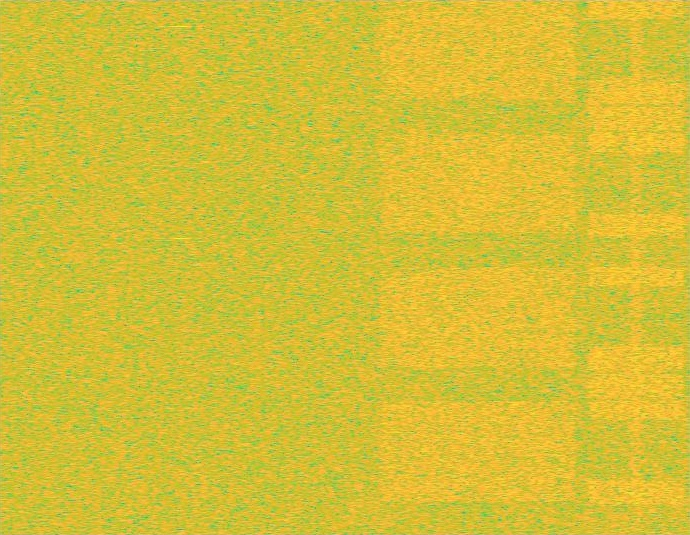5G: (375, 0, 582, 534)
DSSS: (629, 0, 643, 534)
LTE: (584, 0, 688, 534)
Radar: (174, 0, 188, 534)
